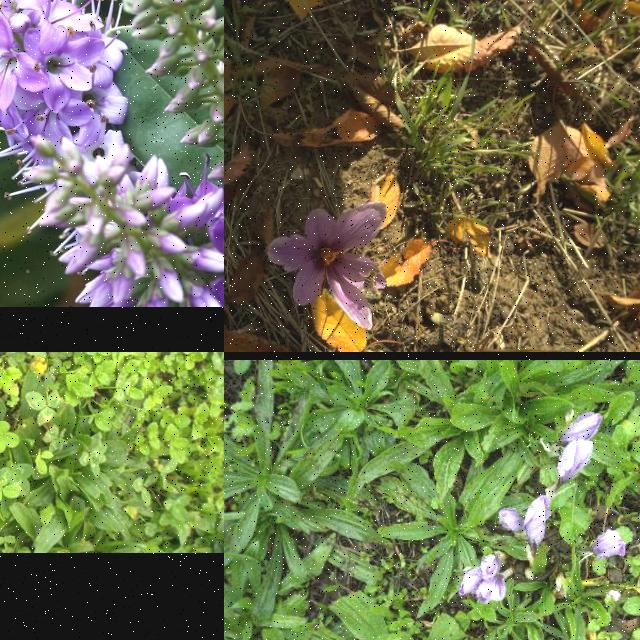flower: (268, 204, 387, 330), (558, 440, 594, 484), (558, 411, 604, 443), (524, 498, 546, 546), (596, 532, 624, 558), (499, 508, 521, 534)
overlap: (458, 554, 506, 604)
